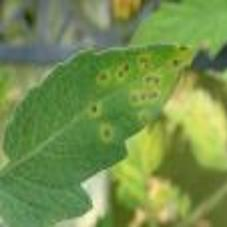Bacterial Spot: (0, 41, 201, 227)
